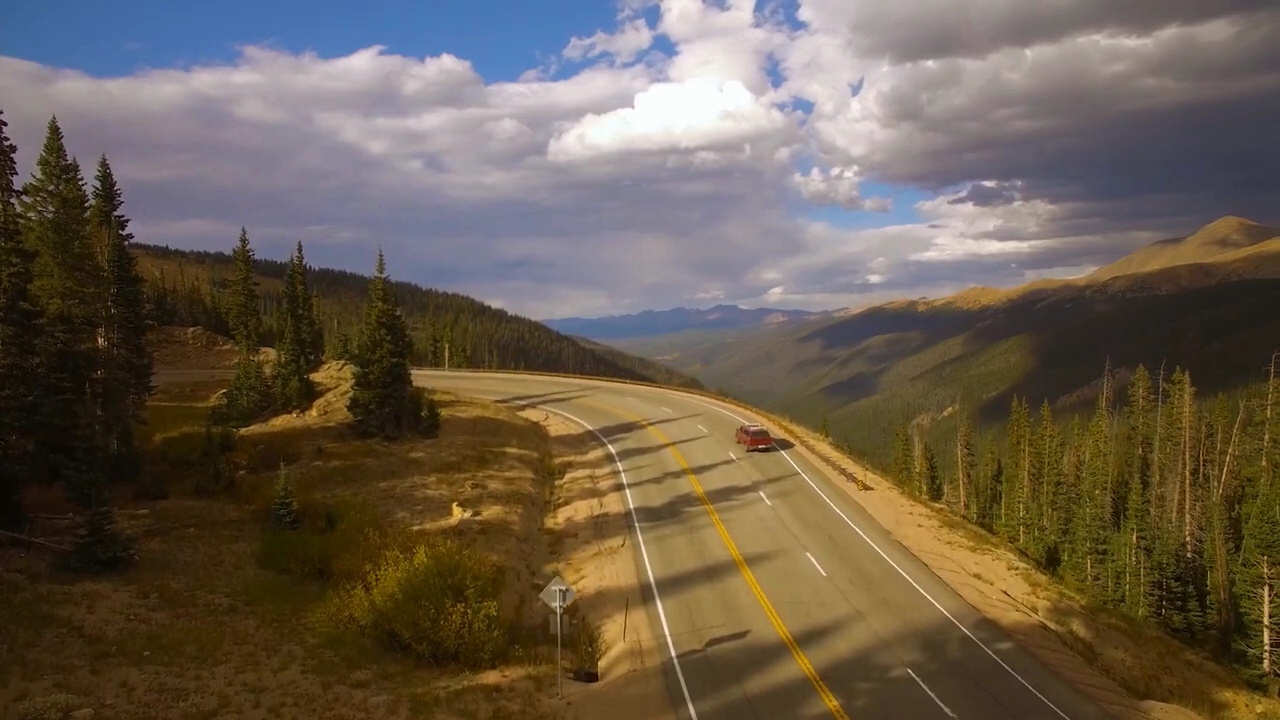araba: (735, 421, 776, 451)
